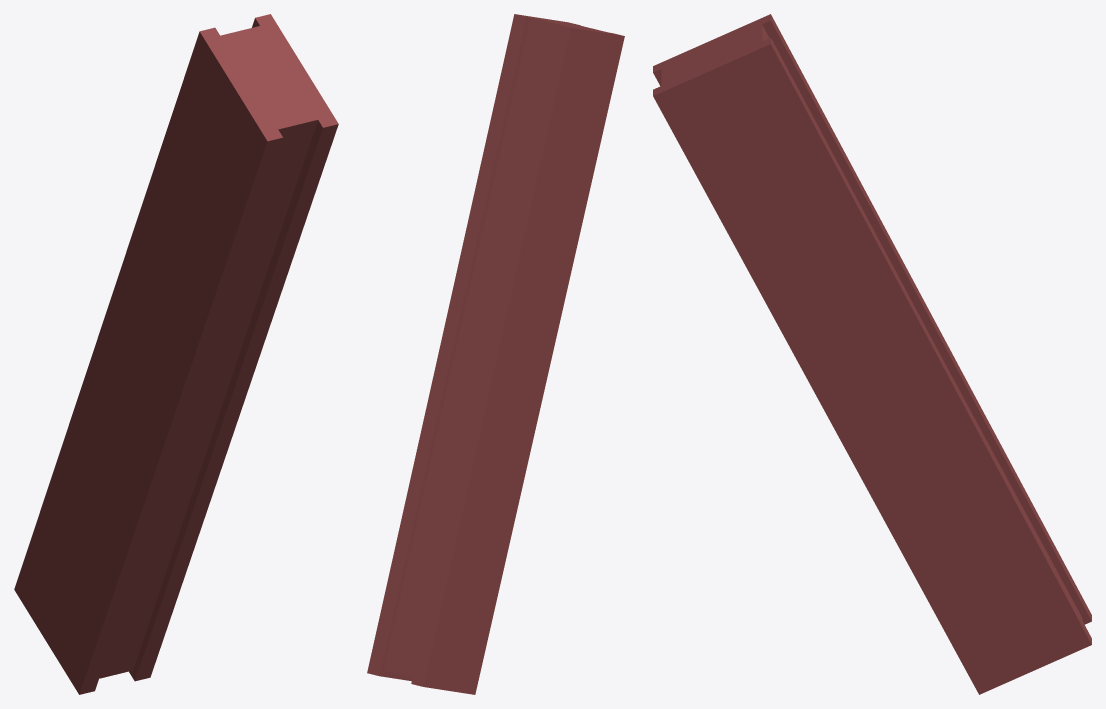
The model's file is WM0_Magazine_LVL3.FBX.
3 renders of one model, left to right at view 1: azimuth 30°, elevation 25°; view 2: azimuth 150°, elevation 25°; view 3: azimuth 270°, elevation 25°, orthographic. The views are drawn at different scales.
Parts seen in each view (by area): view 1: WM0_Magazine_LVL3; view 2: WM0_Magazine_LVL3; view 3: WM0_Magazine_LVL3.
Boxes of the visible parts, left/top/right/bottom form: WM0_Magazine_LVL3: left=14, top=14, right=338, bottom=694; WM0_Magazine_LVL3: left=367, top=14, right=624, bottom=694; WM0_Magazine_LVL3: left=653, top=14, right=1091, bottom=694.
Size of the model in its own units: 2.76 by 27.89 by 17.04.
